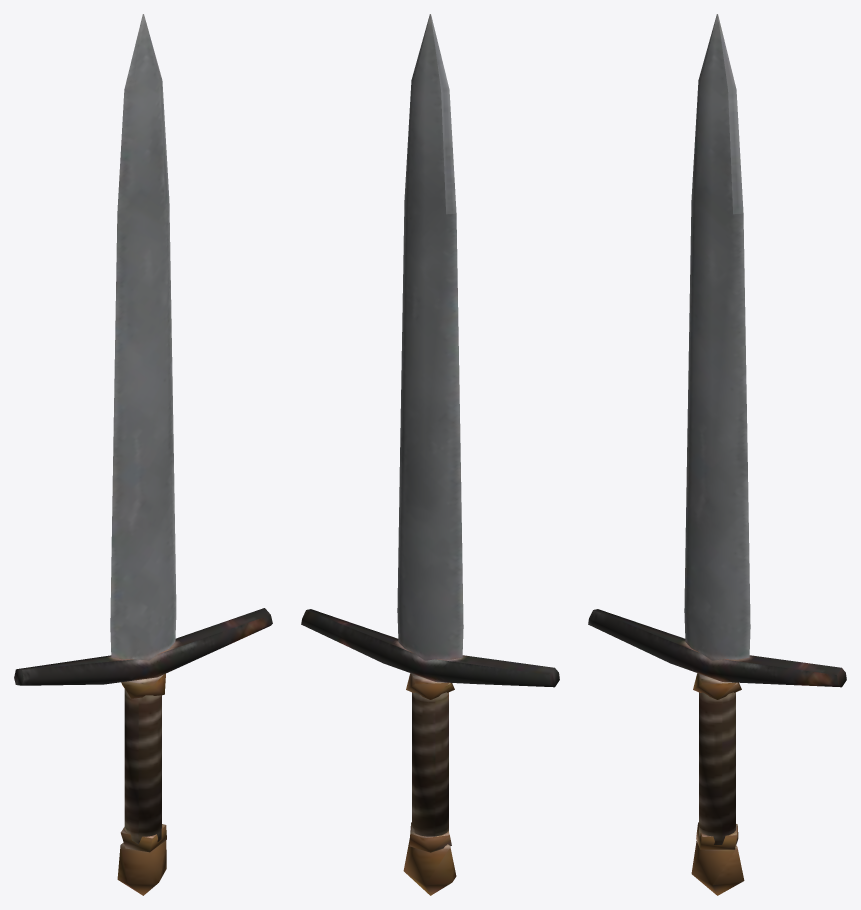
The model's file is eq_sword_2_lod2.glb.
3 renders of one model, left to right at view 1: azimuth 30°, elevation 25°; view 2: azimuth 150°, elevation 25°; view 3: azimuth 330°, elevation 25°, orthographic.
Visible parts, largest first — view 1: eq_sword_2_lod2; view 2: eq_sword_2_lod2; view 3: eq_sword_2_lod2.
Part boxes in pixels (x1,y1,x2,y2): eq_sword_2_lod2: (14, 14, 272, 895); eq_sword_2_lod2: (301, 14, 559, 895); eq_sword_2_lod2: (588, 14, 846, 895).
Bounding box in the file's own units: 0.3728 × 1.25 × 0.0624.
1 material, 1 textured.
